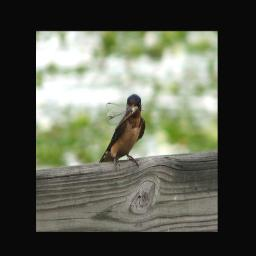Swallow: (98, 94, 146, 173)
